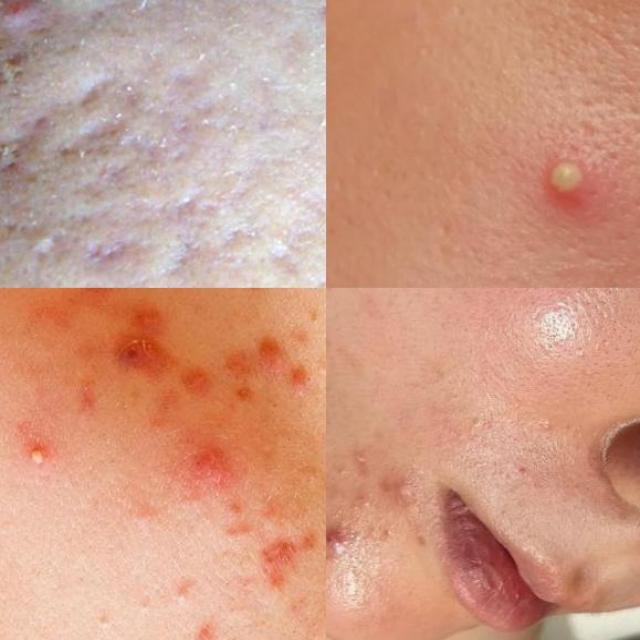8: (164, 432, 285, 499), (244, 526, 323, 598), (99, 326, 166, 384), (163, 357, 225, 408), (378, 468, 429, 510), (51, 288, 130, 312), (257, 324, 292, 372), (326, 519, 354, 556)
9: (524, 131, 608, 224), (18, 436, 64, 470)
blackheads: (57, 113, 126, 156), (81, 221, 143, 265), (0, 0, 61, 40), (173, 184, 221, 220), (0, 124, 36, 165), (144, 276, 210, 288)
dark spot: (378, 512, 398, 544), (132, 593, 155, 619), (268, 387, 286, 418), (286, 420, 301, 453), (334, 455, 349, 483), (573, 288, 609, 298), (44, 632, 76, 640), (231, 632, 253, 640)
